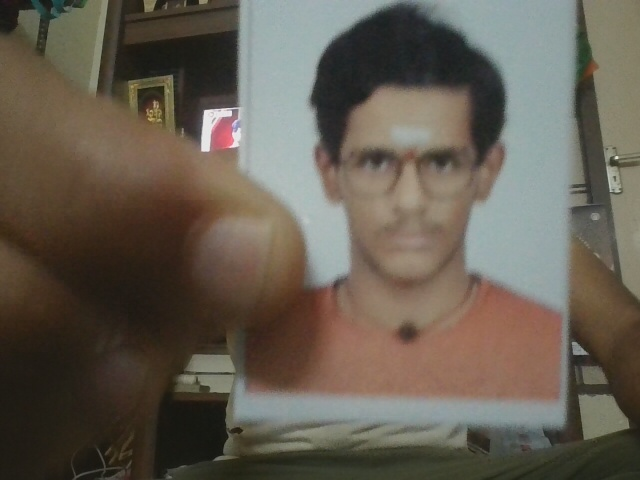fake: (307, 87, 512, 292)
